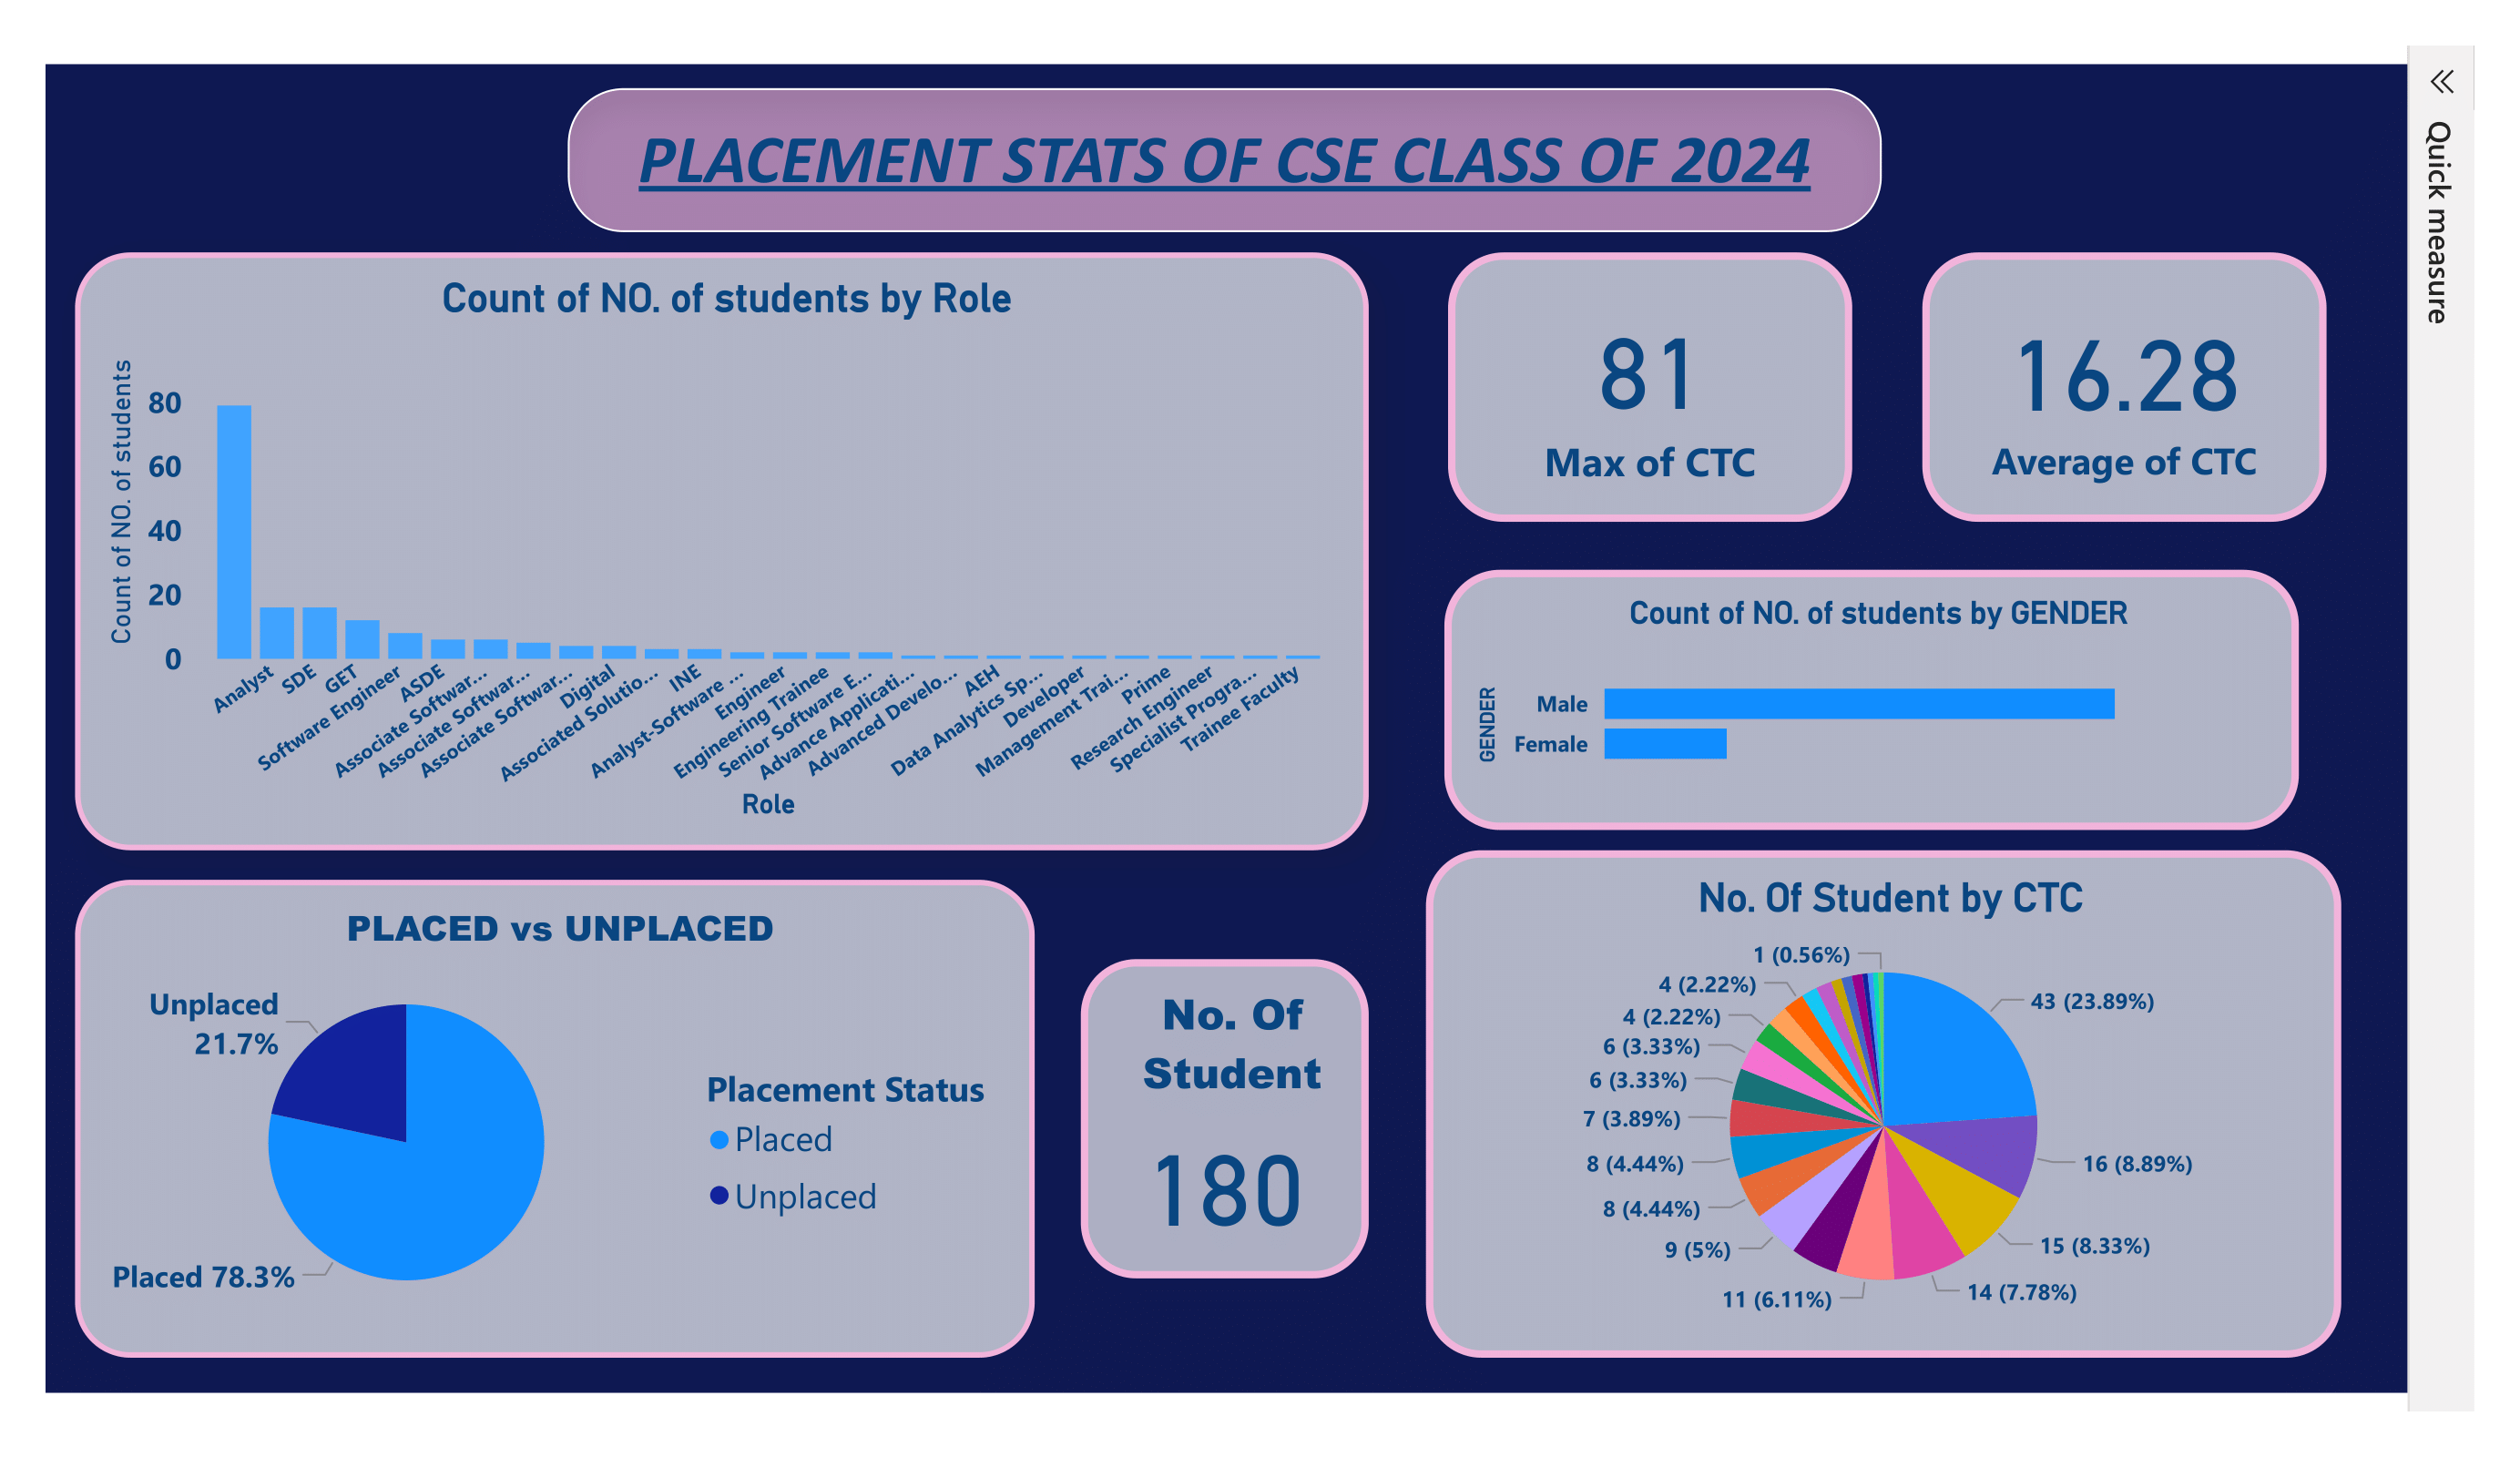

Layout of this report page (visuals, bound fields, positions):
{"tool":"powerbi","page":{"name":"Page 1","canvas":[1280,720],"ordinal":0},"visuals":[{"type":"textbox","box":[282.6,12.8,712.8,77.9],"z":0},{"type":"pieChart","title":"PLACED vs UNPLACED","fields":{"Category":["CSE Placement 2024 (2) 2(Sheet1) (1).Placement Status"],"Y":["CountNonNull(CSE Placement 2024 (2) 2(Sheet1) (1).NO. of students)"]},"box":[16.1,441.9,519.8,259.2],"z":1000},{"type":"columnChart","fields":{"Y":["CountNonNull(CSE Placement 2024 (2) 2(Sheet1) (1).NO. of students)"],"Category":["CSE Placement 2024 (2) 2(Sheet1) (1).Role"]},"box":[16.1,102.1,701.1,323.7],"z":2000},{"type":"card","fields":{"Values":["Max(CSE Placement 2024 (2) 2(Sheet1) (1).CTC)"]},"box":[760.2,102.1,218.9,146.4],"z":3000},{"type":"card","fields":{"Values":["Avg(CSE Placement 2024 (2) 2(Sheet1) (1).CTC)"]},"box":[1016.7,102.1,218.9,146.4],"z":4000},{"type":"card","title":"No. Of Student","fields":{"Values":["CountNonNull(CSE Placement 2024 (2) 2(Sheet1) (1).NO. of students)"]},"box":[561.4,484.9,155.8,173.3],"z":5000},{"type":"pieChart","title":" No. Of Student by CTC","fields":{"Category":["CSE Placement 2024 (2) 2(Sheet1) (1).CTC"],"Y":["CountNonNull(CSE Placement 2024 (2) 2(Sheet1) (1).NO. of students)"]},"box":[748.1,425.8,495.6,275.3],"z":6000},{"type":"barChart","fields":{"Category":["CSE Placement 2024 (2) 2(Sheet1) (1).GENDER"],"Y":["CountNonNull(CSE Placement 2024 (2) 2(Sheet1) (1).NO. of students)"]},"box":[757.5,274,463.4,141],"z":6001}]}

Visuals, with their boxes in screenshot pixels (x1, y1, x2, y2):
textbox: [543,70,1877,216]
"PLACED vs UNPLACED" pieChart: [44,873,1016,1359]
columnChart - CountNonNull(CSE Placement 2024 (2) 2(Sheet1) (1).NO. of students) x CSE Placement 2024 (2) 2(Sheet1) (1).Role: [44,237,1356,843]
card - Max(CSE Placement 2024 (2) 2(Sheet1) (1).CTC): [1437,237,1847,511]
card - Avg(CSE Placement 2024 (2) 2(Sheet1) (1).CTC): [1917,237,2327,511]
"No. Of Student" card: [1065,954,1356,1279]
" No. Of Student by CTC" pieChart: [1414,843,2342,1359]
barChart - CSE Placement 2024 (2) 2(Sheet1) (1).GENDER x CountNonNull(CSE Placement 2024 (2) 2(Sheet1) (1).NO. of students): [1432,559,2300,823]
